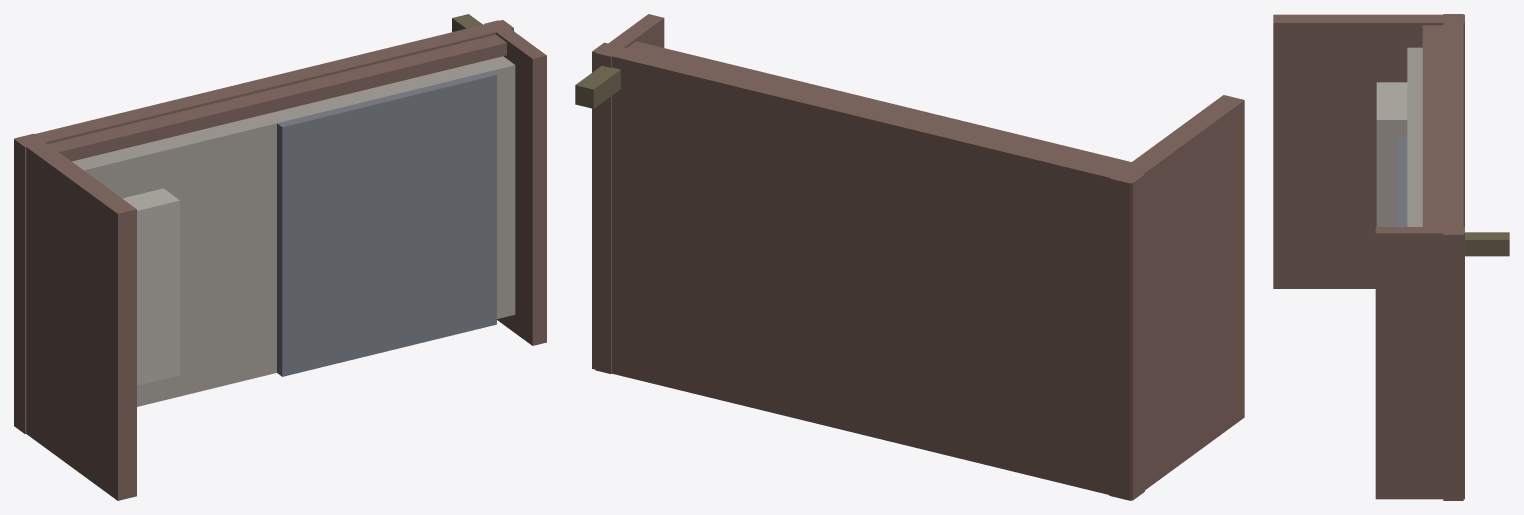
The model's file is bed.glb.
The picture shows the model from 3 angles, left to right: view 1: azimuth 30°, elevation 25°; view 2: azimuth 150°, elevation 25°; view 3: azimuth 270°, elevation 25°; orthographic projection. The views are drawn at different scales.
Visible parts, largest first — view 1: bed_blanket, bed_mattress, bed_headboard, bed_siderail, bed_frame_base, bed_footboard, bed_pillow; view 2: bed_frame_base, bed_headboard, bed_footboard, bed_siderail, bed_leg; view 3: bed_headboard, bed_footboard, bed_frame_base, bed_siderail, bed_pillow, bed_mattress, bed_leg, bed_blanket.
Boxes of the visible parts, bbox=[...] form: bed_blanket: bbox=[277, 71, 496, 376]; bed_mattress: bbox=[72, 56, 515, 406]; bed_headboard: bbox=[14, 133, 136, 500]; bed_siderail: bbox=[48, 35, 506, 161]; bed_frame_base: bbox=[14, 20, 513, 433]; bed_footboard: bbox=[484, 20, 546, 345]; bed_pillow: bbox=[122, 188, 179, 385]; bed_frame_base: bbox=[592, 42, 1144, 500]; bed_headboard: bbox=[1109, 95, 1244, 500]; bed_footboard: bbox=[595, 14, 664, 373]; bed_siderail: bbox=[627, 41, 1131, 168]; bed_leg: bbox=[575, 65, 620, 108]; bed_headboard: bbox=[1273, 14, 1464, 288]; bed_footboard: bbox=[1375, 227, 1464, 499]; bed_frame_base: bbox=[1443, 14, 1463, 500]; bed_siderail: bbox=[1422, 25, 1443, 226]; bed_pillow: bbox=[1376, 82, 1407, 226]; bed_mattress: bbox=[1407, 47, 1422, 226]; bed_leg: bbox=[1465, 232, 1509, 256]; bed_blanket: bbox=[1397, 136, 1407, 226].
Size of the model in its own units: 2.05 by 1.15 by 0.925.
